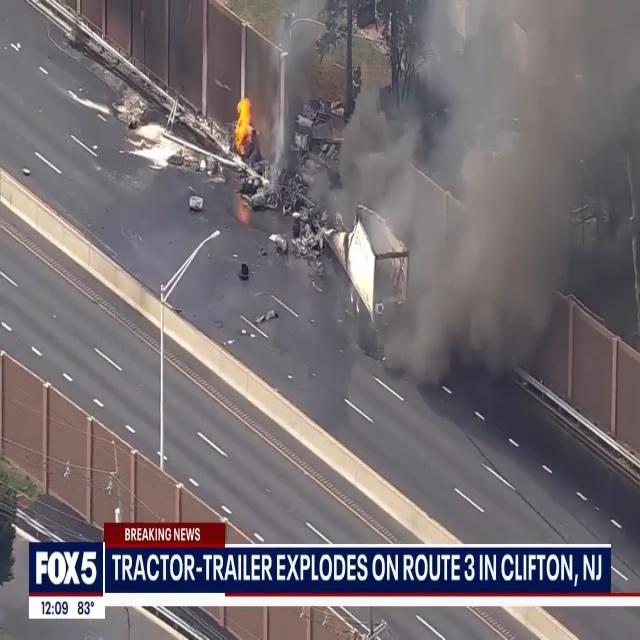fire: (231, 92, 254, 154)
